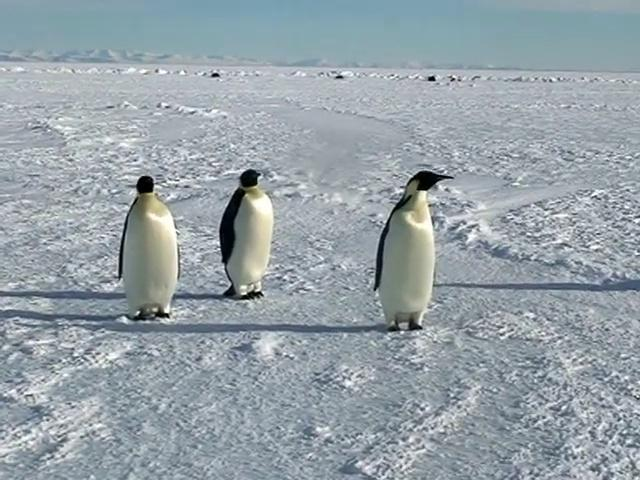animal: (374, 171, 451, 330)
